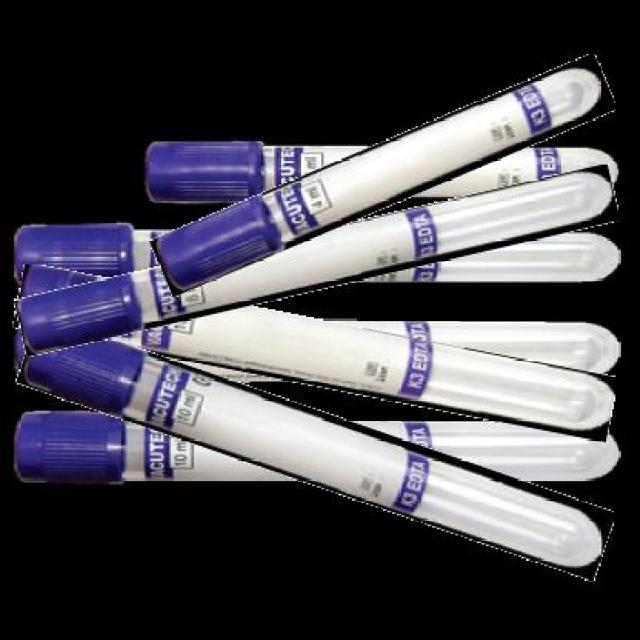Experimental-tube: (13, 362, 619, 532), (13, 196, 621, 322), (12, 290, 617, 413), (145, 96, 621, 250)
